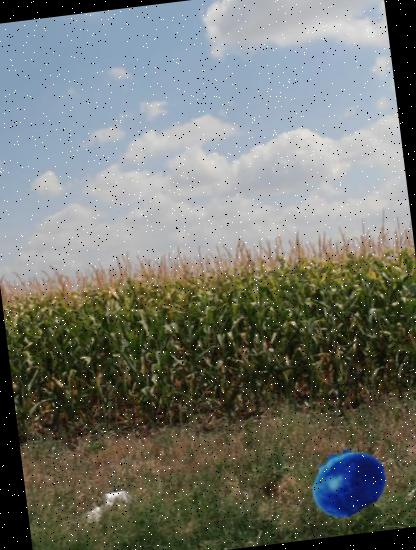Huckleberry: (304, 439, 390, 524)
